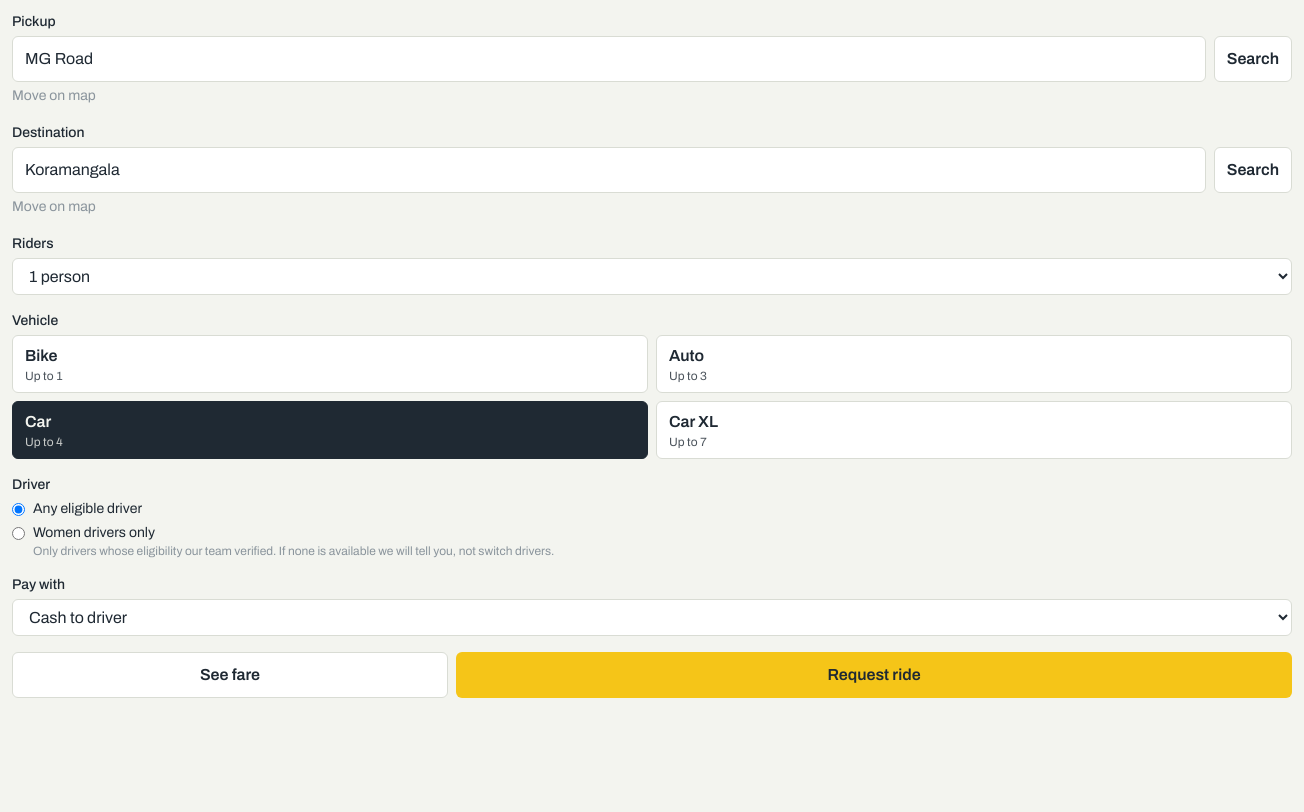
it: Booking: vehicle types, capacity, preference › a group larger than the vehicle switches to one that fits; too-small vehicles are disabled
The image size is (1304, 812).
Expected: the text "Car XL" is shown, [669,413,718,430]
Select "6 people" in the dropdown labelled "Riders" at (652, 276), box [12,258,1292,295]
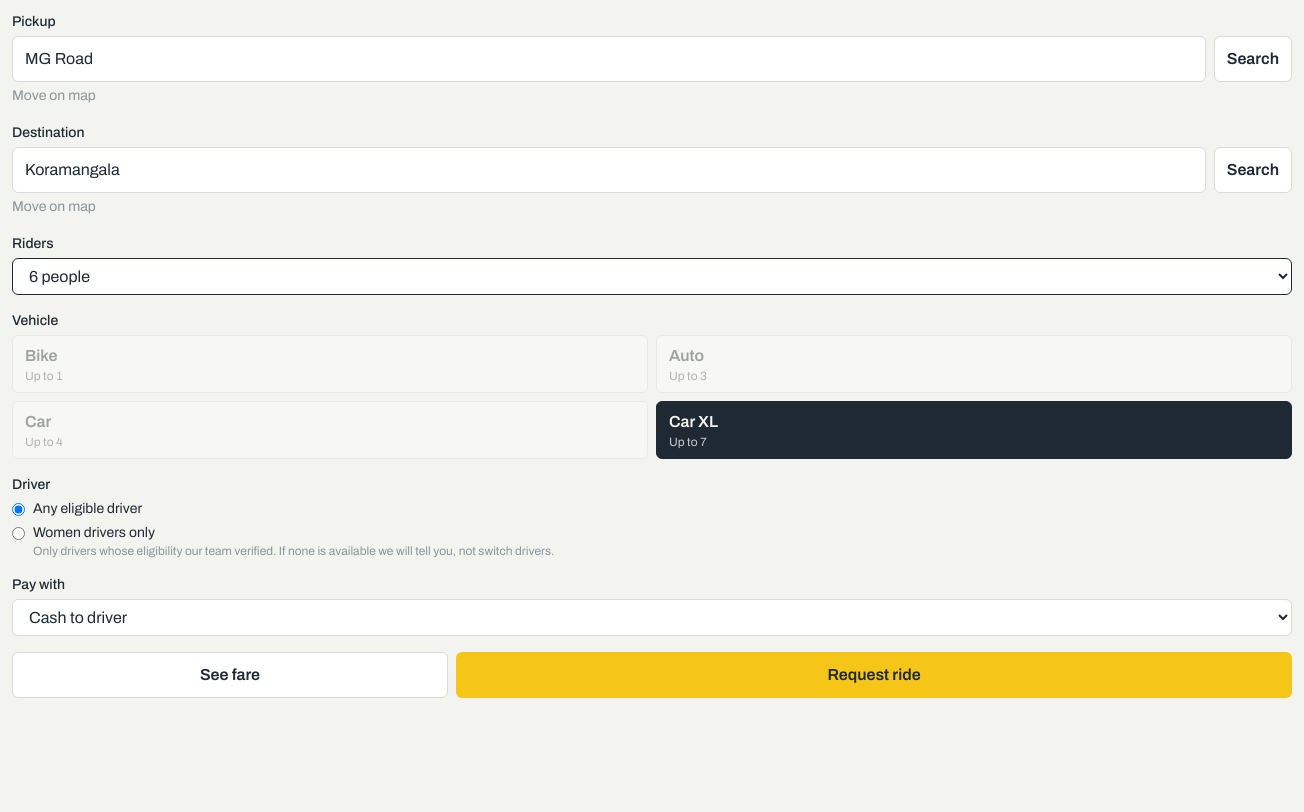
Expected: the radio button showing "CAR_XL" is checked, [656,401,1292,459]
Expected: the radio button showing "CAR" is disabled, [12,401,648,459]
Expected: the radio button showing "BIKE" is disabled, [12,335,648,393]
